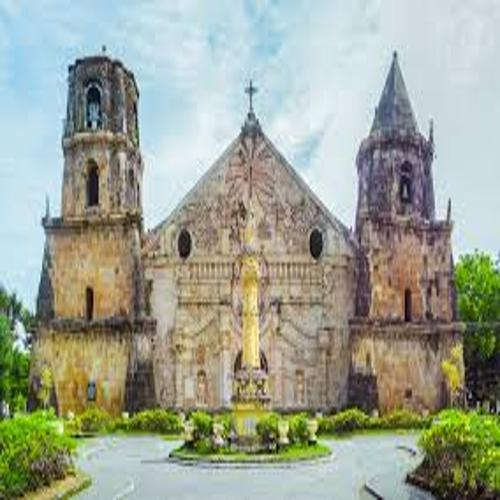Miagao Church: (37, 32, 477, 435)
